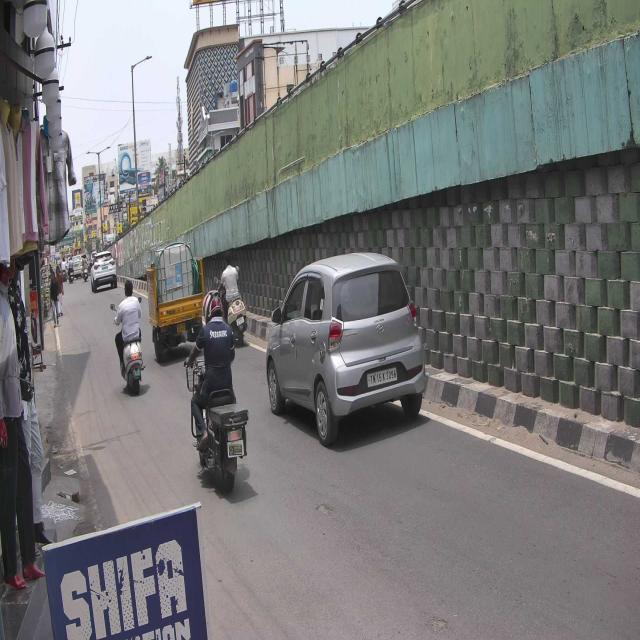single_rider: (183, 285, 251, 498)
